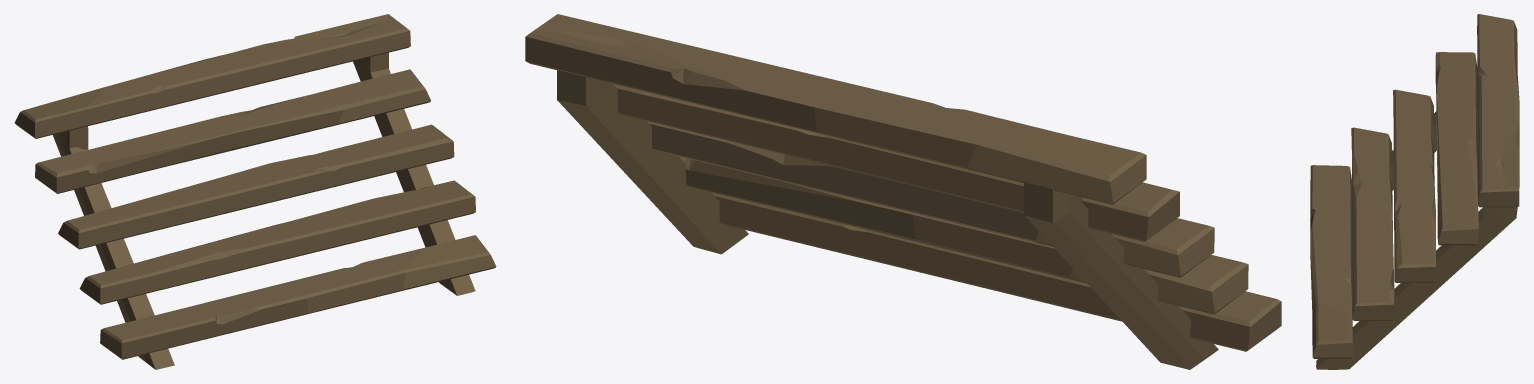
The model's file is greek_stairs_wood.fbx.
3 renders of one model, left to right at view 1: azimuth 30°, elevation 25°; view 2: azimuth 150°, elevation 25°; view 3: azimuth 270°, elevation 25°, orthographic. The views are drawn at different scales.
Parts seen in each view (by area): view 1: Cube.073; view 2: Cube.073; view 3: Cube.073.
Boxes of the visible parts, x1=… form: Cube.073: x1=14, y1=14, x2=496, y2=369; Cube.073: x1=525, y1=14, x2=1281, y2=369; Cube.073: x1=1310, y1=14, x2=1519, y2=369.
Bounding box in the file's own units: 201 × 100 × 100.
